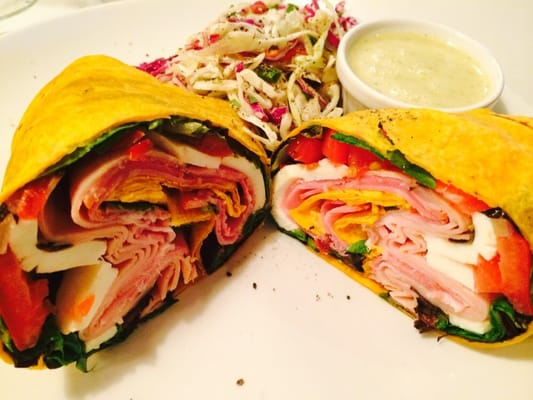soup: (0, 55, 273, 368), (270, 105, 533, 346)
sushi: (335, 20, 506, 116)
